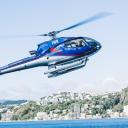helicopter: (1, 11, 118, 80)
